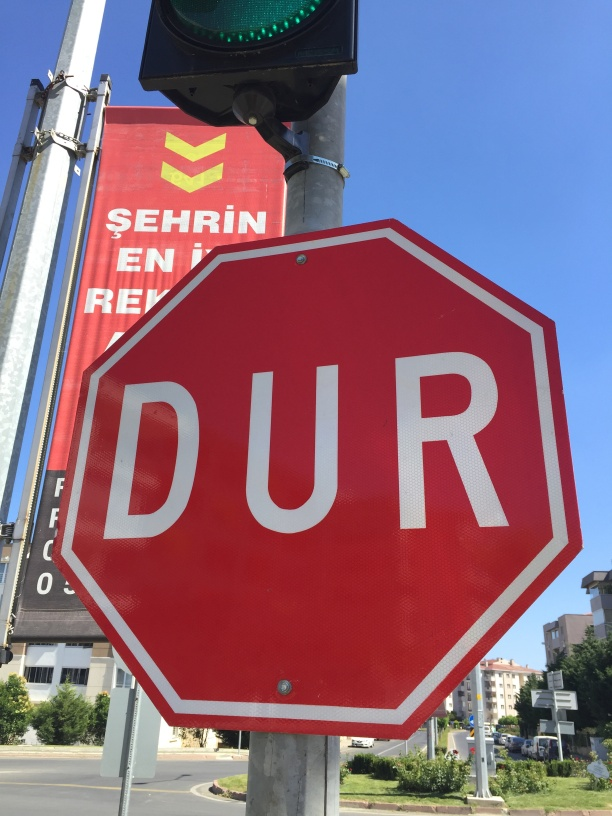arac_dur_isareti: (53, 190, 580, 743)
